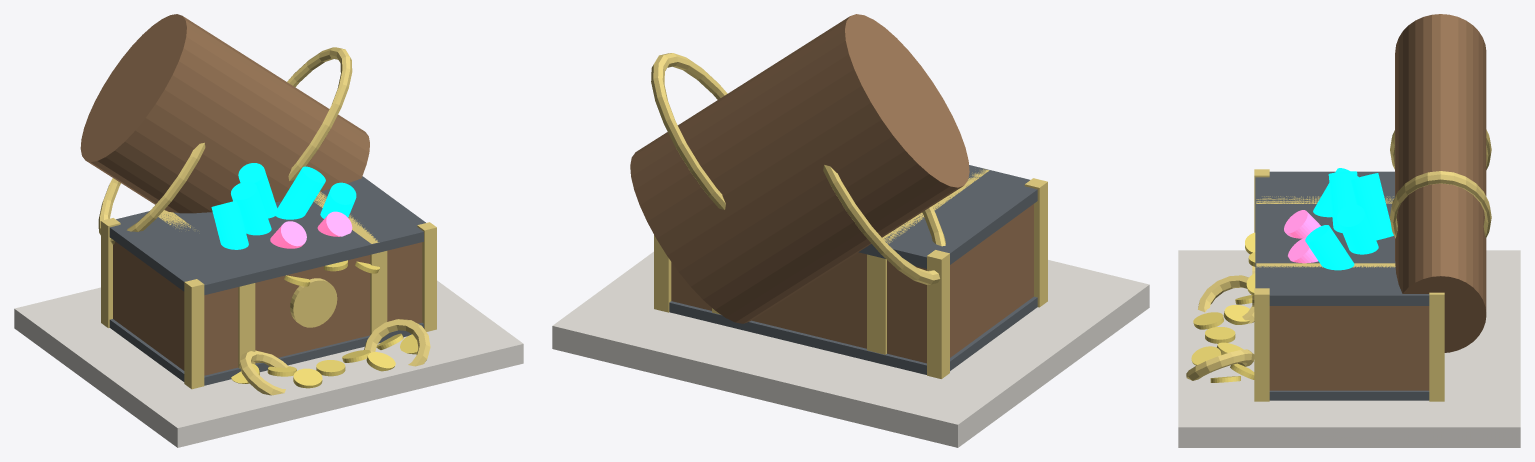
The model's file is prop_treasure_chest.glb.
The picture shows the model from 3 angles, left to right: view 1: azimuth 30°, elevation 25°; view 2: azimuth 150°, elevation 25°; view 3: azimuth 270°, elevation 25°; orthographic projection. The views are drawn at different scales.
Visible parts, largest first — view 1: Cylinder.001, Cube, Cube.001, Cube.003, Cube.002, Cube.004, Torus.001, Cylinder, Cube.009, Torus, Cube.006, Cube.008 (+11 smaller); view 2: Cylinder.001, Cube, Cube.001, Cube.003, Cube.002, Torus.001, Cube.005, Cube.008, Torus, Cube.004, Cube.007; view 3: Cube, Cylinder.001, Cube.001, Cube.003, Cube.006, Cube.002, Cube.007, Torus.001, Cylinder.027, Cylinder.025, Cylinder.029, Cylinder.028 (+11 smaller).
Boxes of the visible parts, <box> form: Cylinder.001: <box>80,14,369,213</box>; Cube: <box>14,280,523,447</box>; Cube.001: <box>113,241,422,375</box>; Cube.003: <box>109,176,425,295</box>; Cube.002: <box>109,319,423,385</box>; Cube.004: <box>184,279,204,389</box>; Torus.001: <box>287,47,352,181</box>; Cylinder: <box>290,278,337,327</box>; Cube.009: <box>314,191,387,334</box>; Torus: <box>98,142,205,244</box>; Cube.006: <box>417,222,436,331</box>; Cube.008: <box>158,210,255,368</box>; Cylinder.001: <box>630,14,969,323</box>; Cube: <box>552,251,1149,447</box>; Cube.001: <box>671,204,1033,363</box>; Cube.003: <box>858,165,1037,268</box>; Cube.002: <box>669,296,1037,374</box>; Torus.001: <box>651,53,727,209</box>; Cube.005: <box>927,250,949,378</box>; Cube.008: <box>867,169,989,354</box>; Torus: <box>823,165,945,284</box>; Cube.004: <box>1024,178,1047,307</box>; Cube.007: <box>654,235,671,312</box>; Cube: <box>1178,250,1520,447</box>; Cylinder.001: <box>1395,14,1486,352</box>; Cube.001: <box>1269,306,1429,390</box>; Cube.003: <box>1255,171,1429,305</box>; Cube.006: <box>1254,288,1269,401</box>; Cube.002: <box>1269,390,1429,400</box>; Cube.007: <box>1429,292,1444,401</box>; Torus.001: <box>1390,171,1491,238</box>; Cylinder.027: <box>1350,173,1393,240</box>; Cylinder.025: <box>1337,204,1378,254</box>; Cylinder.029: <box>1305,225,1354,270</box>; Cylinder.028: <box>1328,171,1357,232</box>.
Size of the model in its own units: 2.2 by 1.88 by 1.8.
